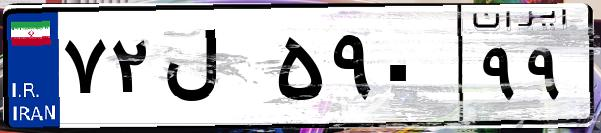0: (385, 28, 445, 110)
2: (110, 28, 158, 98)
5: (270, 28, 330, 110)
7: (57, 26, 110, 100)
9: (330, 28, 385, 110), (475, 38, 525, 113), (525, 38, 570, 115)
ل: (158, 20, 270, 120)
